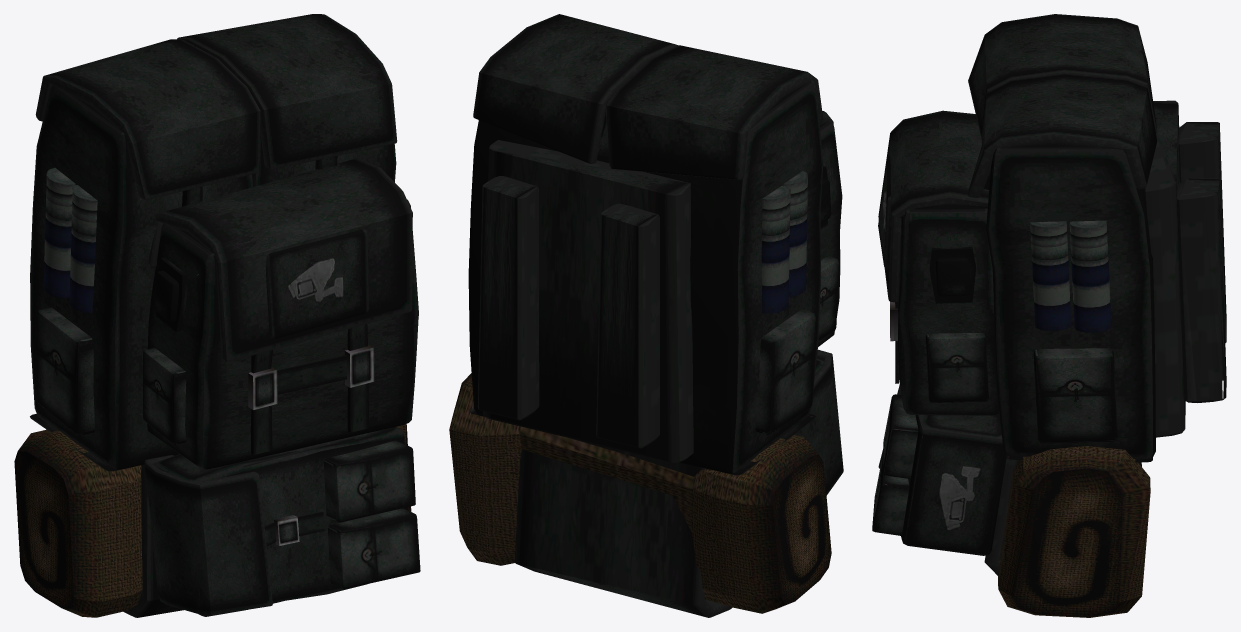
The model's file is cameraman_backpack.glb.
3 renders of one model, left to right at view 1: azimuth 30°, elevation 25°; view 2: azimuth 150°, elevation 25°; view 3: azimuth 270°, elevation 25°, orthographic. The views are drawn at different scales.
Visible parts, largest first — view 1: TitanJetpack; view 2: TitanJetpack; view 3: TitanJetpack.
Boxes of the visible parts, bbox=[...] form: TitanJetpack: bbox=[14, 14, 420, 617]; TitanJetpack: bbox=[449, 14, 843, 617]; TitanJetpack: bbox=[872, 14, 1226, 617].
Size of the model in its own units: 0.9109 by 1.38 by 0.9086.
1 material, 1 textured.
